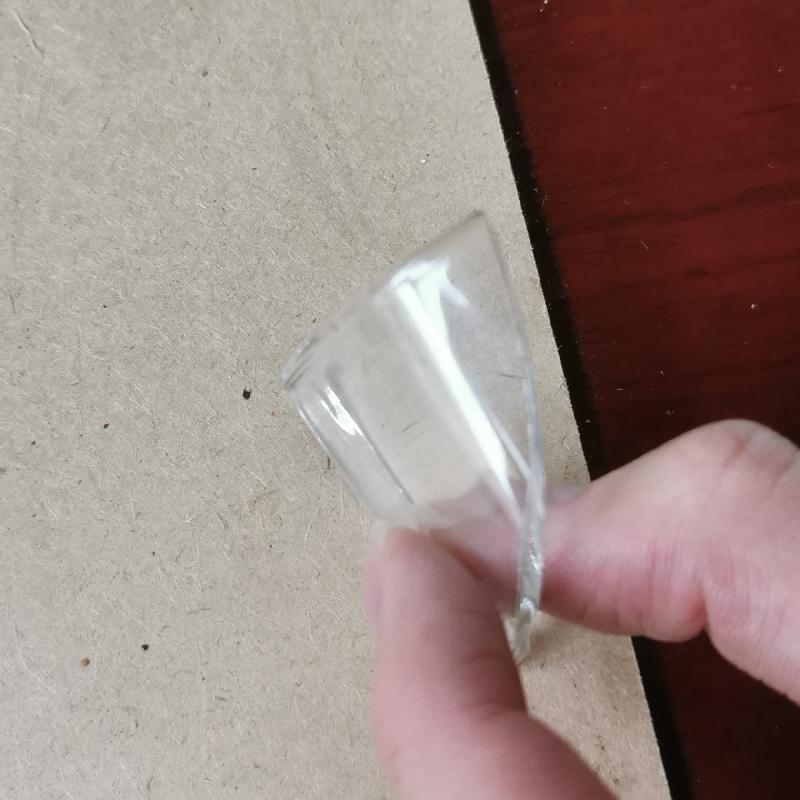glass: (278, 208, 570, 668)
